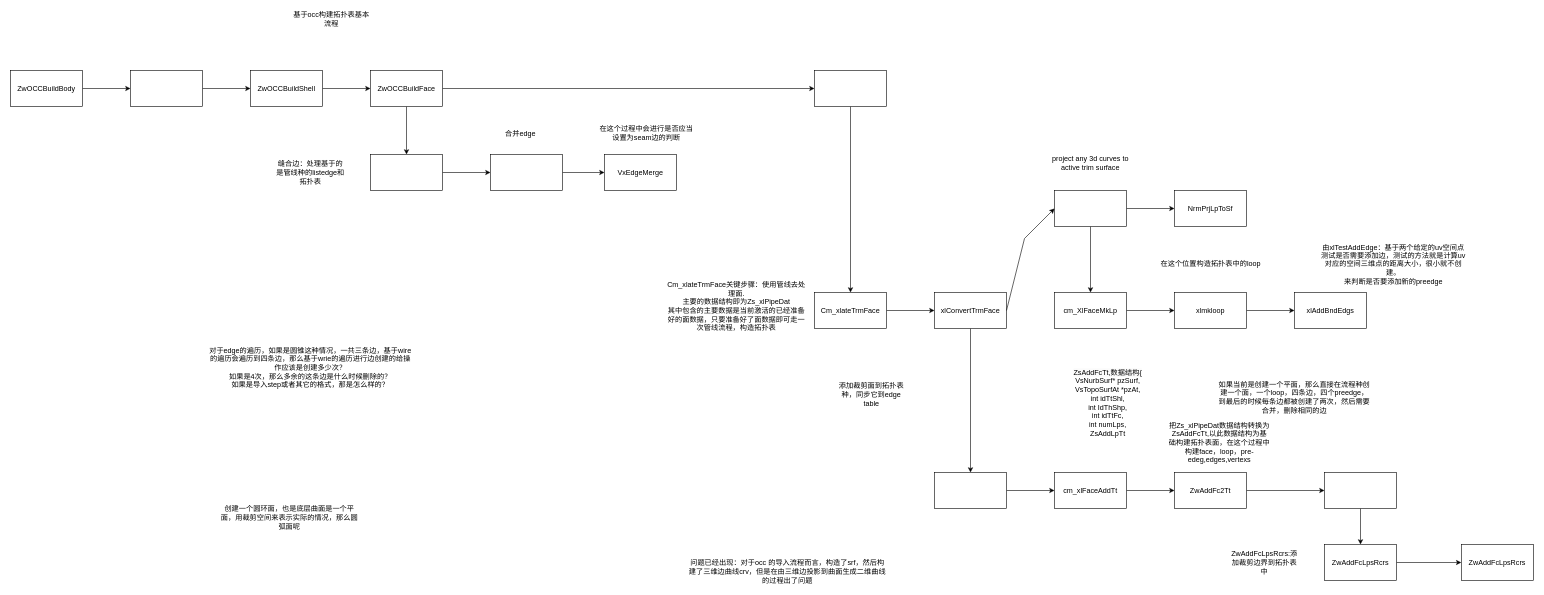
This 1544x595 diagram has some shape labels left out. The box of each missing label's shape, as (x1, y1, x2, y2) in pixels:
cm_XLPrjTrmFace: (1054, 190, 1126, 226)
cm_XlTtSewEdgs: (370, 154, 442, 190)
VxSrfToFace: (1324, 472, 1396, 508)
xlEndEdgJoin: (490, 154, 562, 190)
XlwriteTrmFaceToTt: (934, 472, 1006, 508)
ZwOCCBuildLoop: (814, 70, 886, 106)
ZwOCCBuildSolid: (130, 70, 202, 106)
